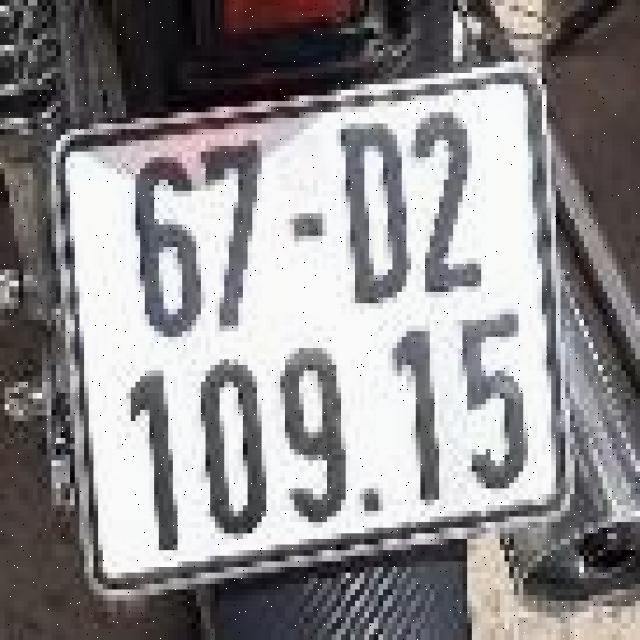0: (182, 340, 276, 547)
1: (390, 312, 451, 514), (128, 365, 184, 561)
2: (406, 90, 491, 303)
5: (460, 303, 558, 494)
6: (122, 149, 206, 345)
7: (187, 123, 276, 337)
9: (278, 337, 357, 533)
D: (341, 115, 411, 306)
